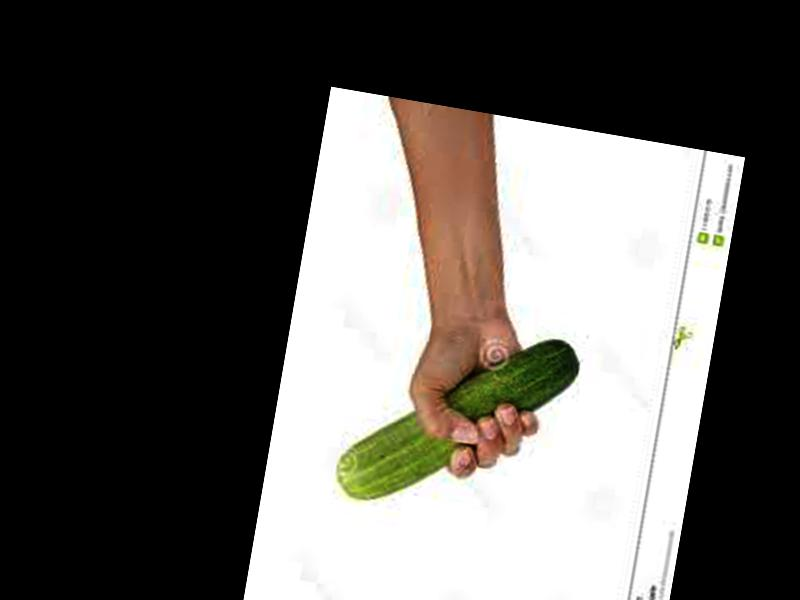Cucumber: (334, 302, 584, 531)
